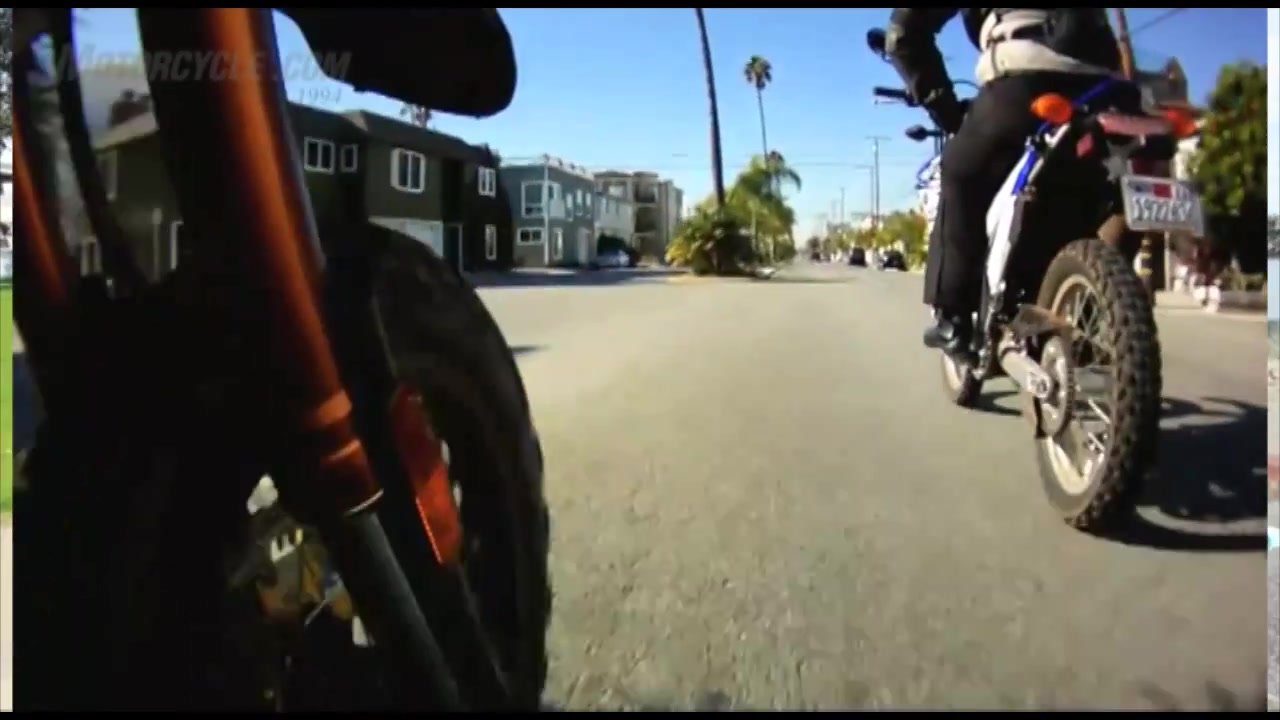motorbike: (865, 27, 1211, 535)
